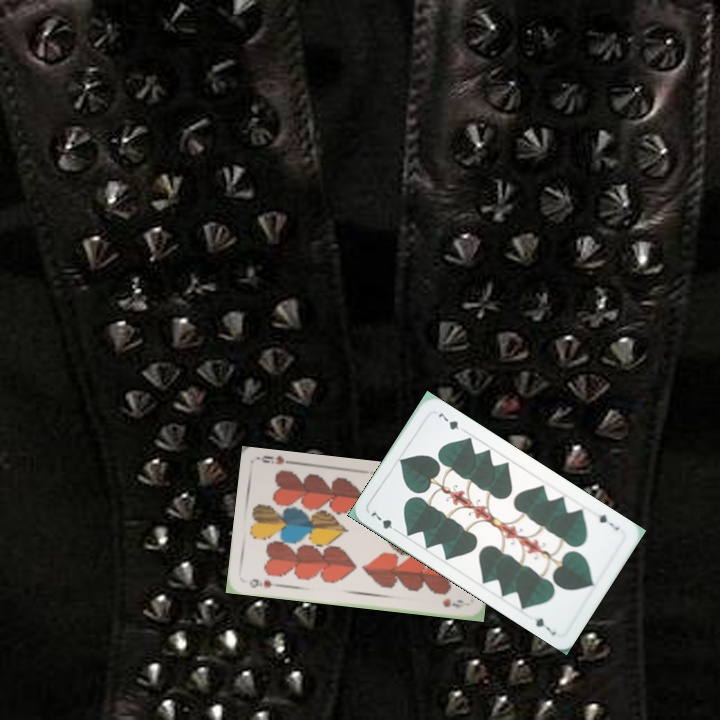G7: (366, 508, 402, 536), (594, 510, 622, 533)
H9: (245, 575, 282, 591)
